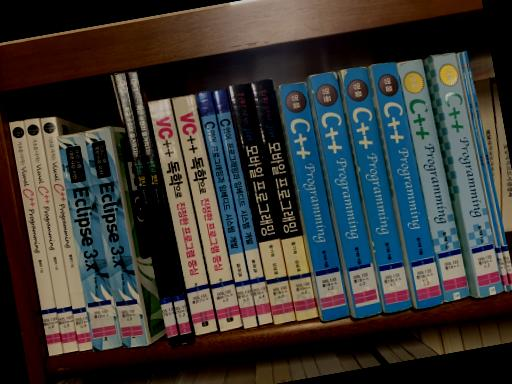book-spine: (126, 71, 194, 343), (309, 72, 383, 317), (114, 73, 180, 345), (339, 67, 412, 312), (372, 62, 444, 309), (398, 59, 470, 302), (433, 52, 503, 297), (279, 82, 350, 321), (148, 98, 218, 335), (173, 93, 243, 330), (251, 78, 319, 320), (228, 82, 296, 323), (197, 91, 258, 328), (84, 125, 148, 347), (213, 88, 273, 324), (58, 132, 122, 351), (25, 117, 79, 354), (9, 120, 63, 355), (459, 51, 511, 292), (41, 116, 93, 352), (464, 50, 512, 283)
